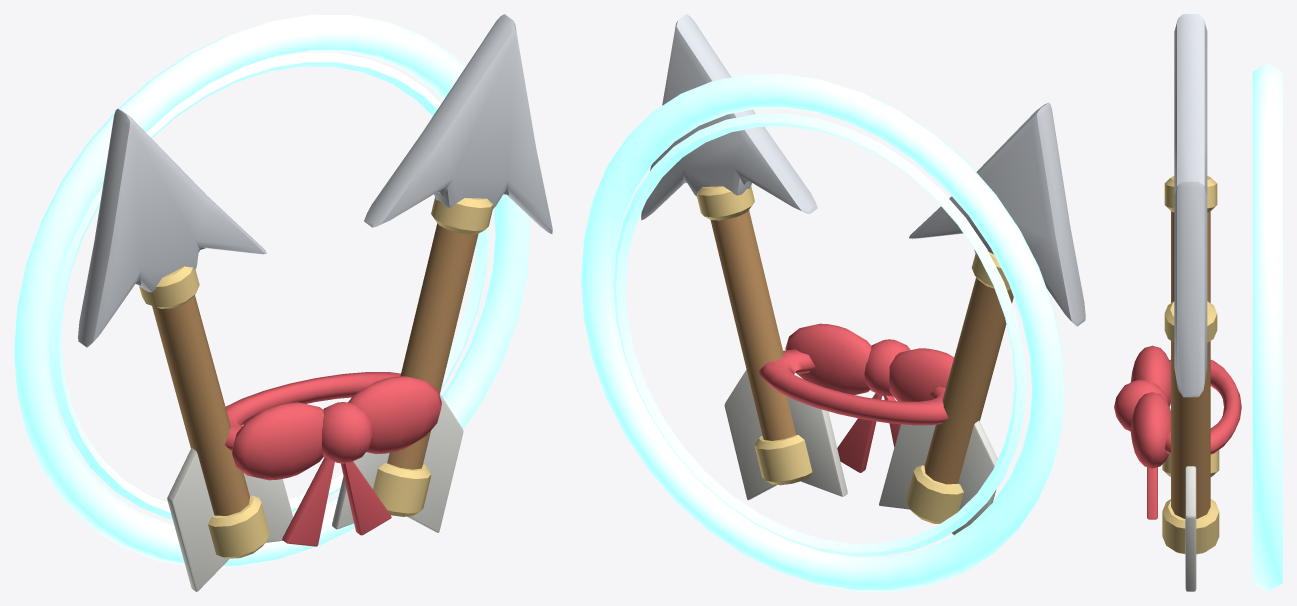
Rendered from item_double.glb.
3 renders of one model, left to right at view 1: azimuth 30°, elevation 25°; view 2: azimuth 150°, elevation 25°; view 3: azimuth 270°, elevation 25°, orthographic. The views are drawn at different scales.
Visible parts, largest first — view 1: item_double; view 2: item_double; view 3: item_double.
Boxes of the visible parts, bbox=[...] form: item_double: bbox=[14, 14, 552, 591]; item_double: bbox=[581, 14, 1085, 591]; item_double: bbox=[1114, 14, 1282, 591].
Size of the model in its own units: 0.482 by 0.482 by 0.1539.
